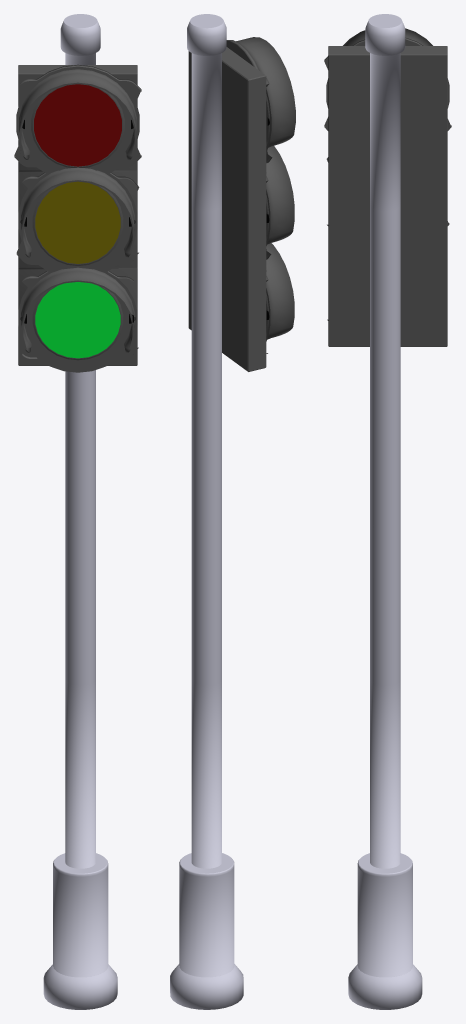
File: YesilTrafikLambasi.dae
3 renders of one model, left to right at view 1: azimuth 90°, elevation 25°; view 2: azimuth 210°, elevation 25°; view 3: azimuth 270°, elevation 25°, orthographic.
Parts seen in each view (by area): view 1: tab, light-red, light-yellow, light-green, light-tab; view 2: tab, light-tab, light-red, light-yellow, light-green; view 3: tab, light-tab, light-red.
Boxes of the visible parts, box(x1,y1,x2,y2) form: tab: box(43, 14, 117, 1009); light-red: box(14, 64, 141, 174); light-yellow: box(16, 167, 139, 272); light-green: box(18, 267, 138, 372); light-tab: box(18, 65, 137, 365); tab: box(170, 14, 243, 1009); light-tab: box(188, 47, 266, 371); light-red: box(226, 37, 295, 163); light-yellow: box(266, 145, 294, 259); light-green: box(266, 243, 294, 353); tab: box(348, 14, 422, 1009); light-tab: box(328, 46, 447, 346); light-red: box(324, 28, 451, 130).
Bounding box in the file's own units: 0.2618 × 0.32 × 2.7.
